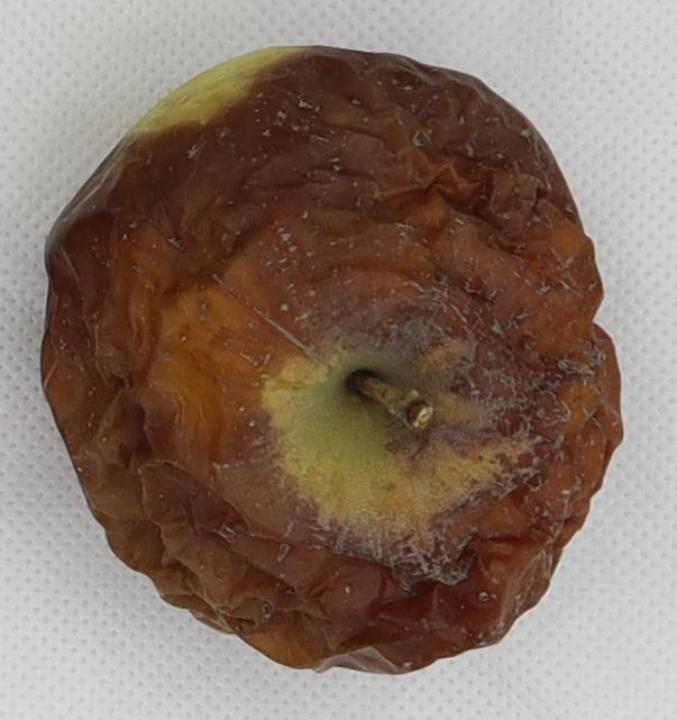apple: (42, 48, 621, 672)
rot_mold_decay: (44, 49, 620, 671)
